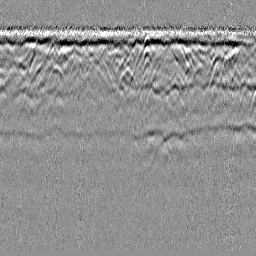cavity: (116, 64, 138, 96)
